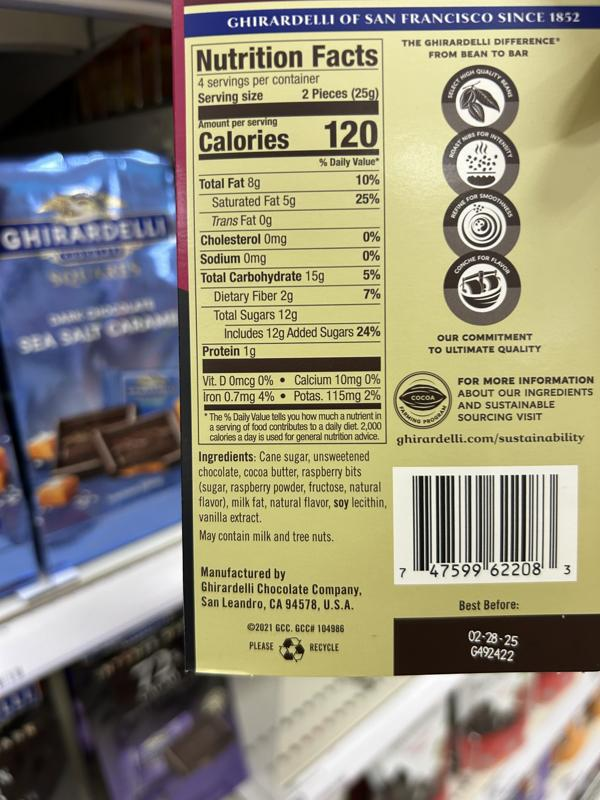ingredients: (195, 450, 390, 525)
